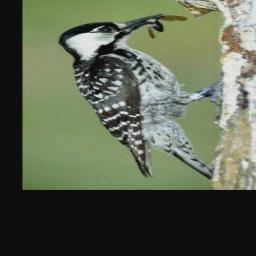Woodpecker: (57, 14, 214, 182)
